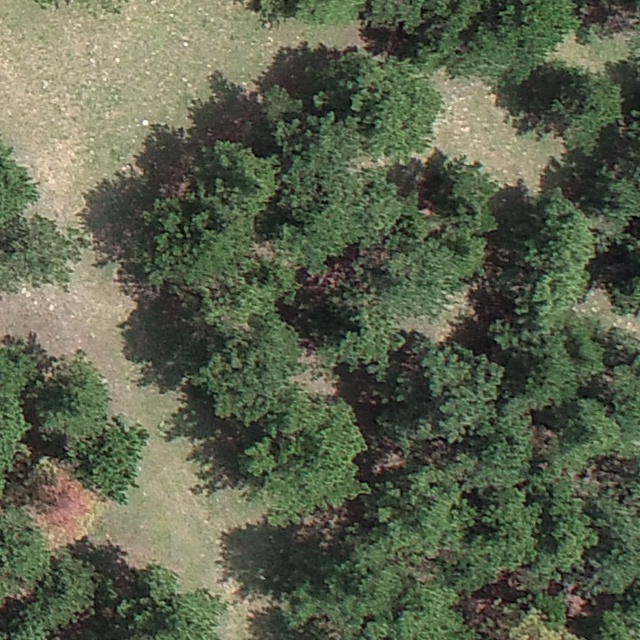unhealthy: (27, 457, 99, 546)
